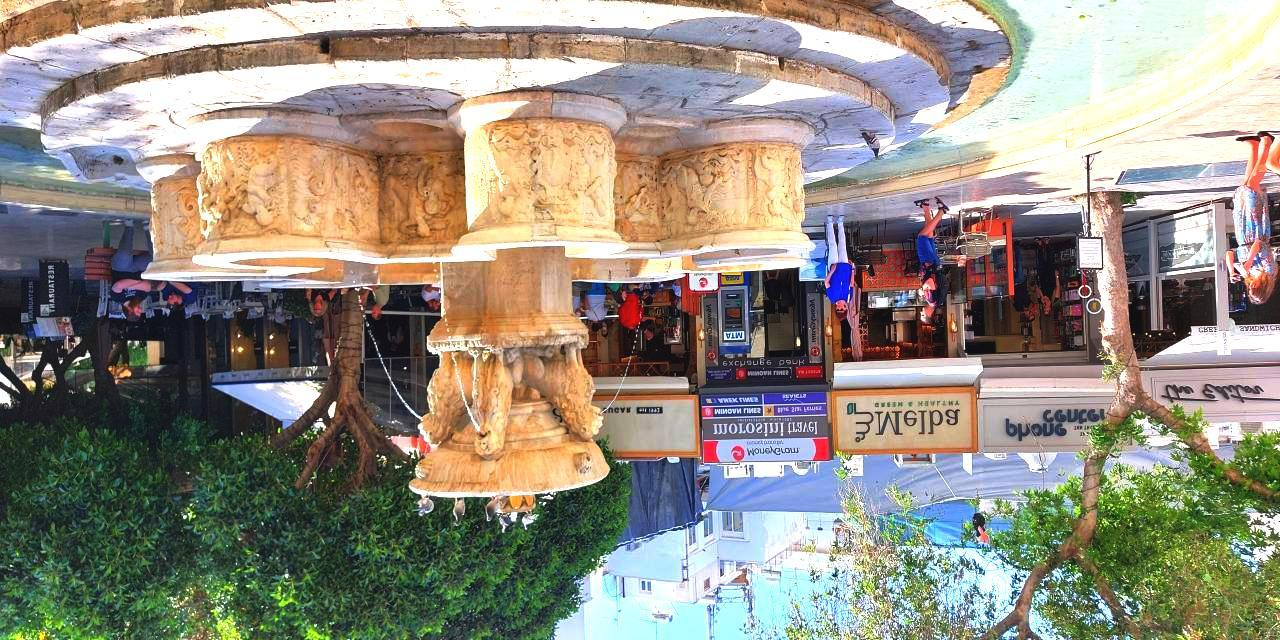Liontaria: (147, 88, 818, 503)
